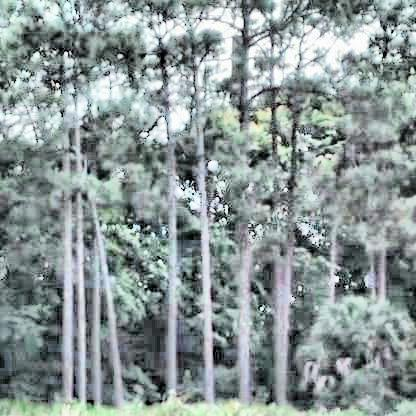golfball: (206, 159, 215, 169)
